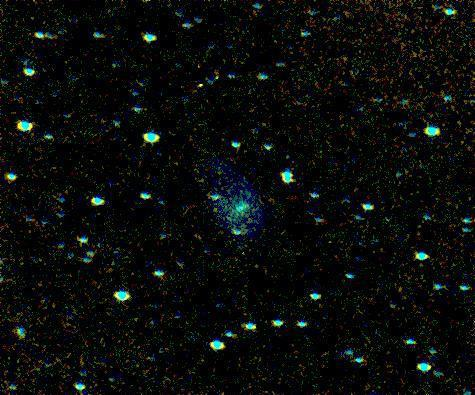star: (254, 181, 284, 211)
